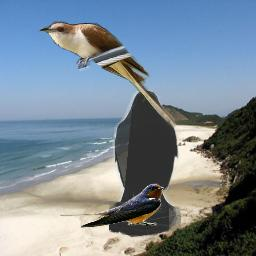Crow: (109, 90, 181, 238)
Cuckoo: (38, 21, 179, 129)
Swallow: (60, 183, 164, 228)
